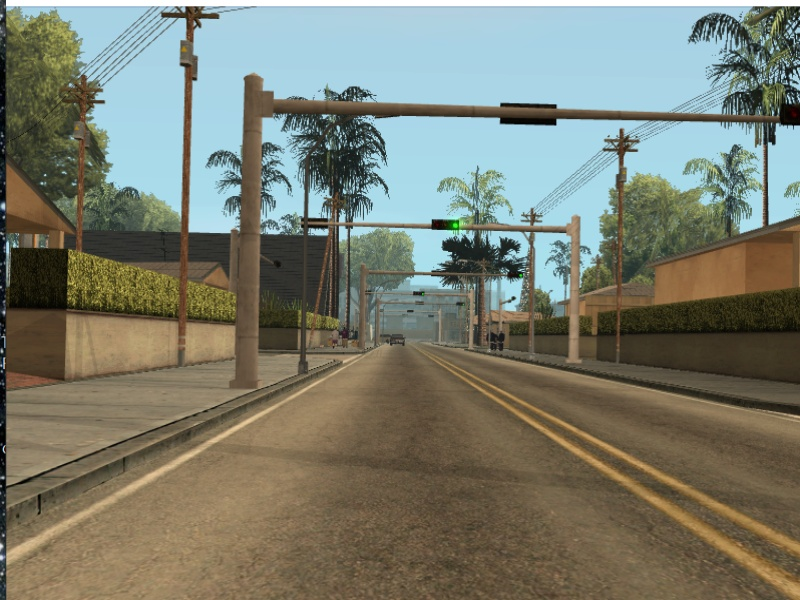person: (495, 329, 506, 349)
pole: (236, 75, 264, 390), (178, 18, 196, 367), (567, 216, 589, 369), (618, 142, 625, 369), (360, 262, 369, 354), (467, 289, 478, 350)
vehicle: (389, 332, 406, 348)
